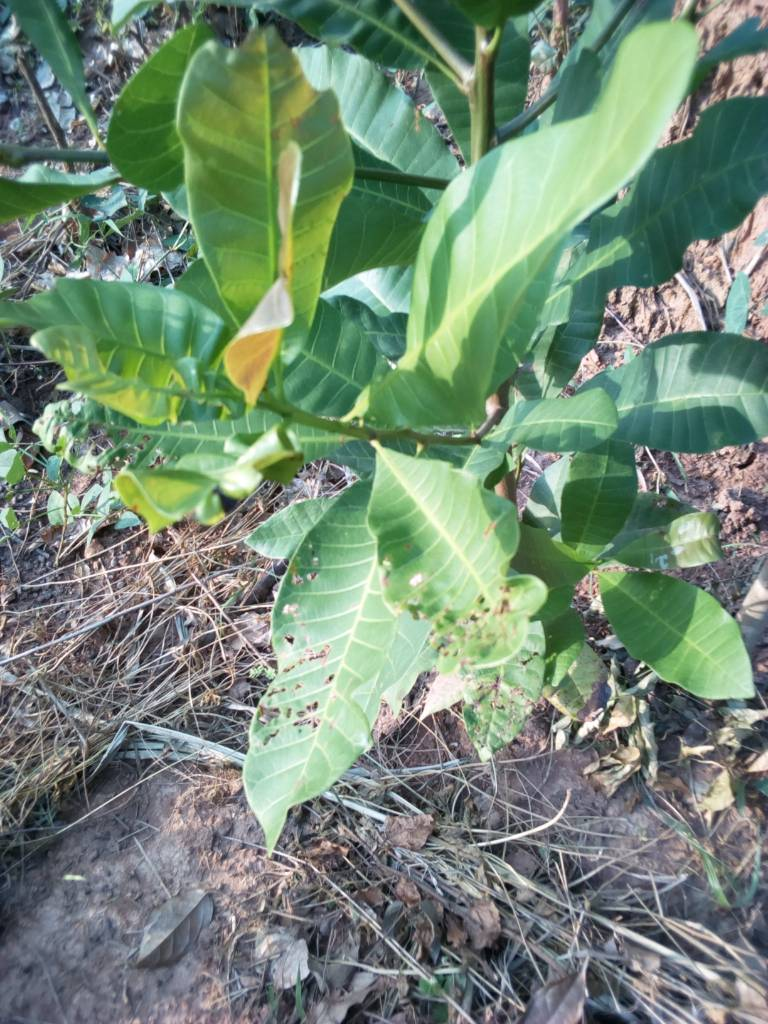Anoplonemis curvipes: (213, 475, 432, 842)
